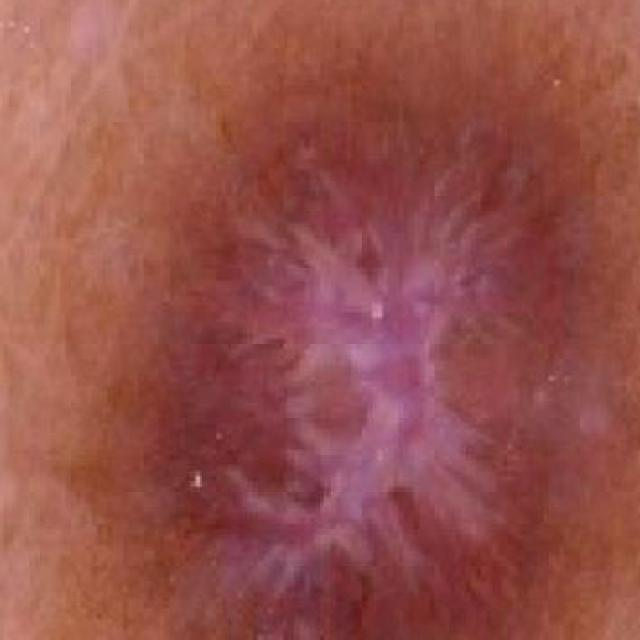DF: (60, 29, 640, 640)
